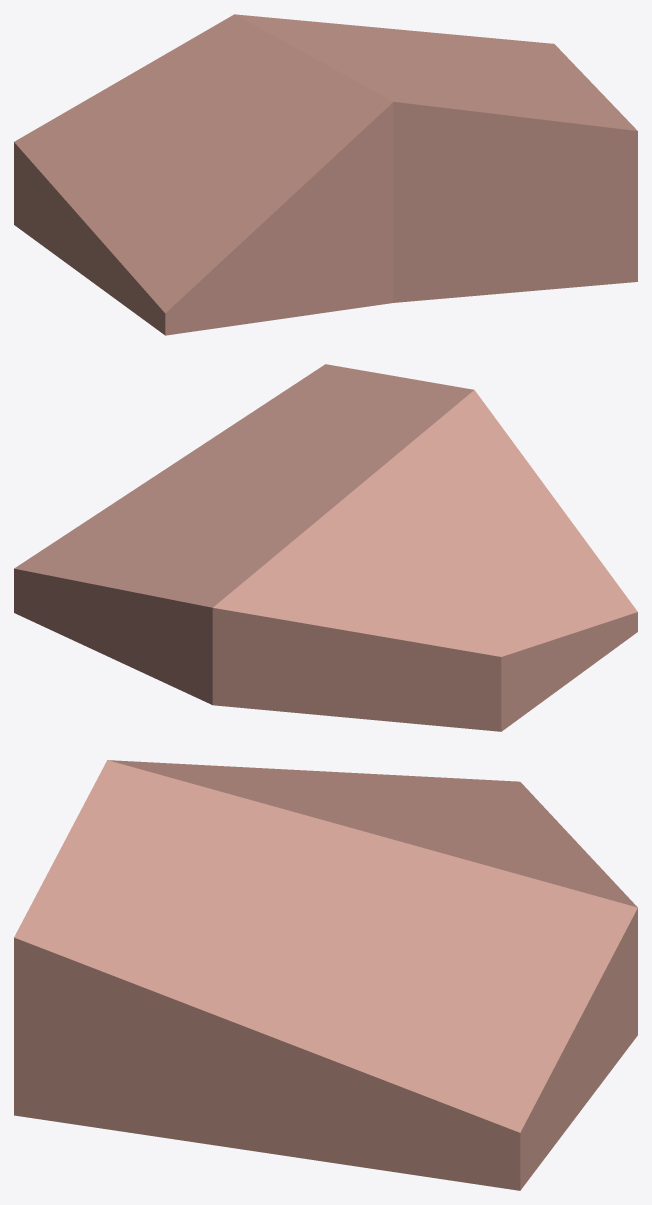
Rendered from Debris_R3_2.fbx.
3 renders of one model, top to bottom at view 1: azimuth 30°, elevation 25°; view 2: azimuth 150°, elevation 25°; view 3: azimuth 270°, elevation 25°, orthographic. The views are drawn at different scales.
Parts seen in each view (by area): view 1: Debris_R3_2; view 2: Debris_R3_2; view 3: Debris_R3_2.
Part boxes in pixels (box(x1,y1,x2,y2)): Debris_R3_2: box(14, 14, 637, 335); Debris_R3_2: box(14, 364, 637, 731); Debris_R3_2: box(14, 760, 637, 1190).
Size of the model in its own units: 4.64 by 1.65 by 3.93.
